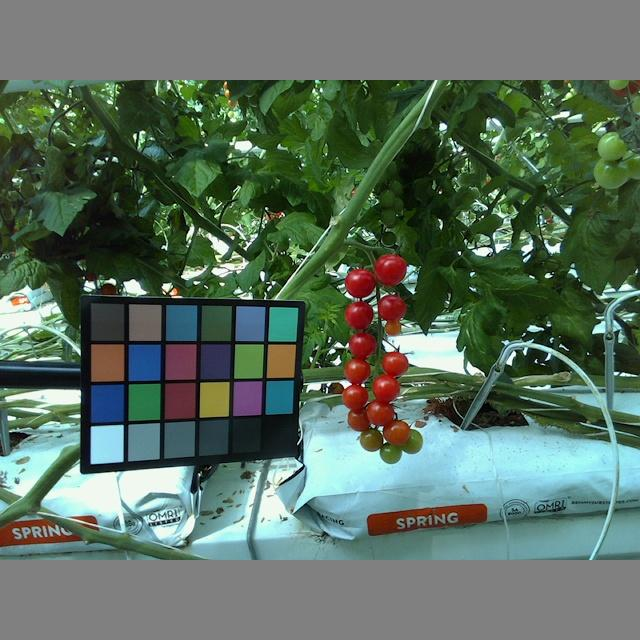green: (599, 125, 629, 162), (598, 159, 627, 190), (357, 433, 384, 450), (406, 430, 425, 453), (381, 444, 401, 463), (628, 154, 640, 181)
red: (342, 268, 377, 296), (340, 357, 375, 385), (347, 333, 380, 360), (378, 256, 408, 284), (342, 306, 377, 329), (380, 295, 410, 319), (386, 419, 411, 444), (375, 378, 400, 402), (367, 401, 394, 423), (339, 388, 368, 408), (387, 352, 410, 376), (384, 322, 406, 337), (346, 412, 366, 427)
